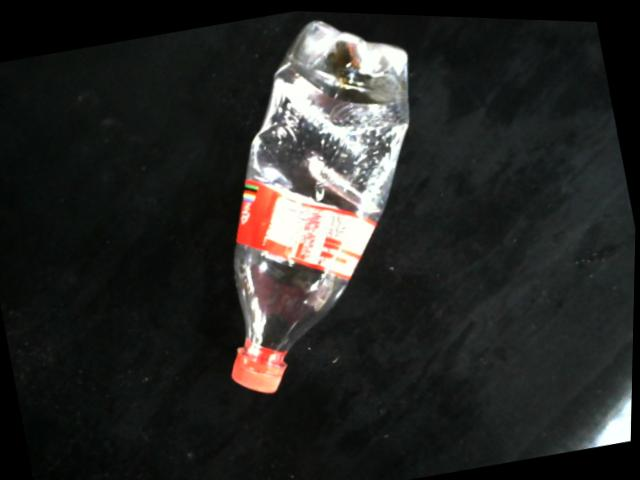bottle: (232, 18, 410, 392)
